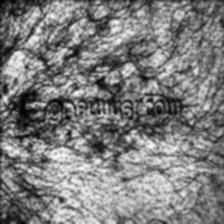Non-Cancerous Skin Condition: (13, 66, 180, 154)
